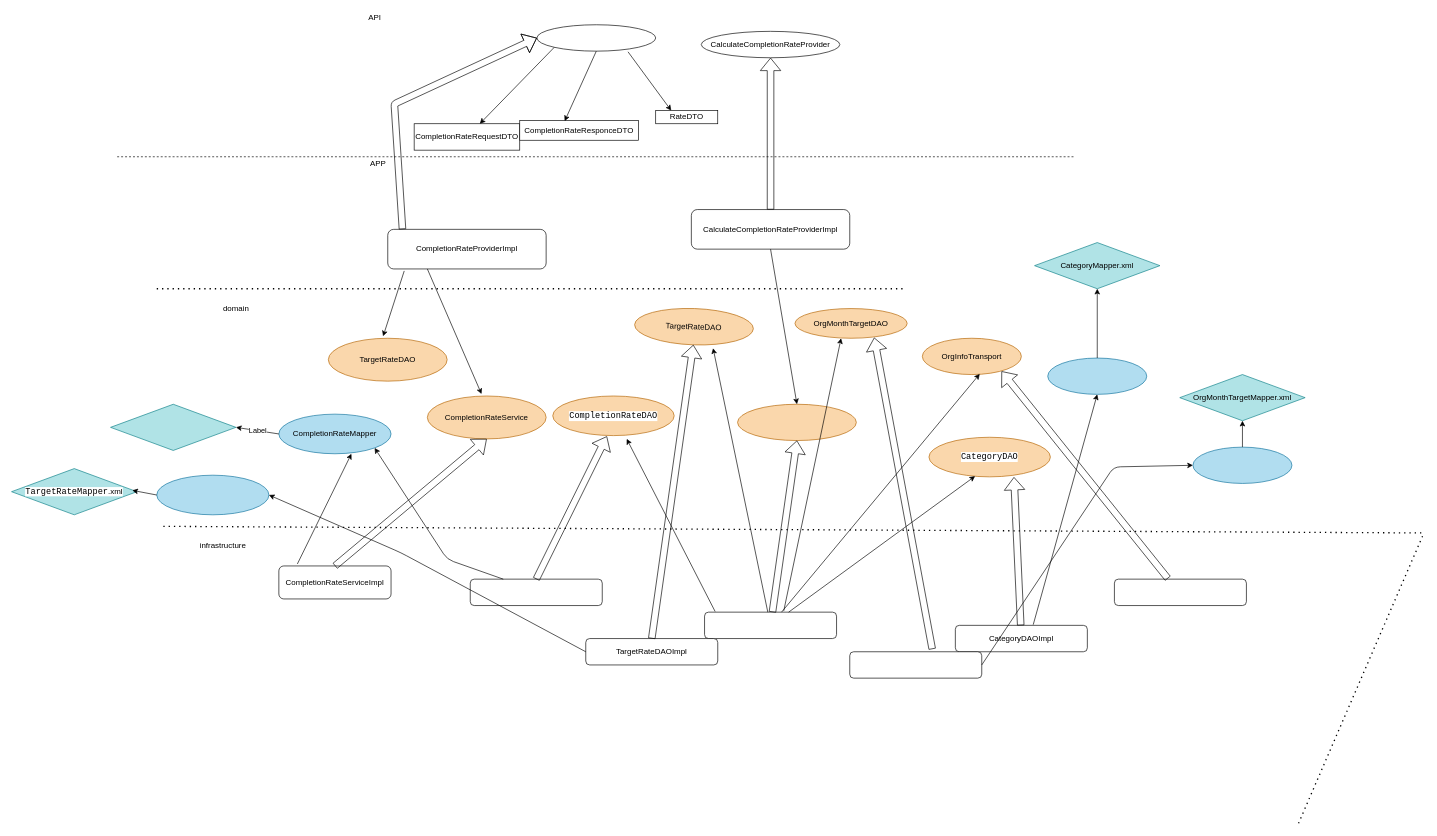
Some shapes in this 1437 by 836 pixel diagram are drawn without their labels. Here are the shapes that lost their labels. From the top down, the centre of each, then its label:
pixel 596 37: CompletionRateProvider
pixel 1097 375: CategoryMapper
pixel 173 427: CompletionRateMapper.xml
pixel 796 422: OrgcompleteRateService
pixel 1242 464: OrgMonthTargetMapper
pixel 212 495: TargetRateMapper
pixel 536 592: CompletionRateDAOImpl
pixel 1180 592: OrgInfoTransPortImpl
pixel 770 625: OrgCompletionRateServiceImpl
pixel 915 664: OrgMonthTargetDAOImpl
